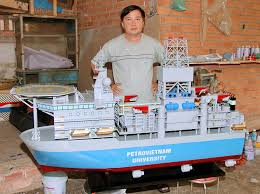tau_dansu: (26, 73, 256, 167)
